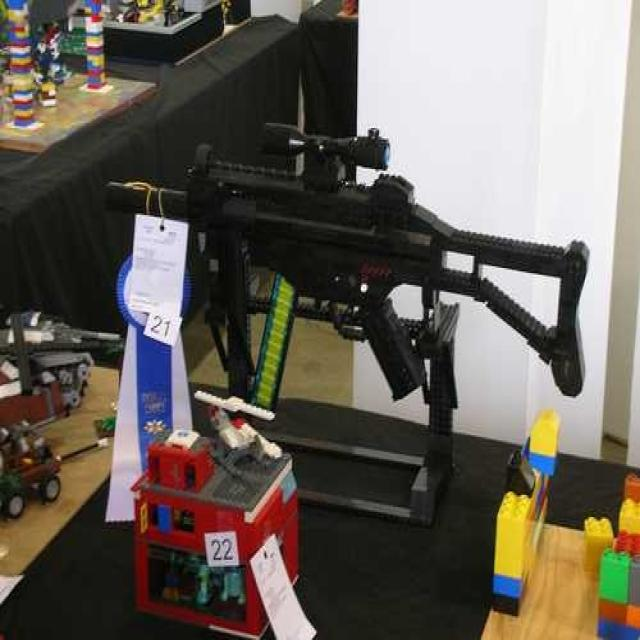RifleTel: (108, 117, 591, 404)
